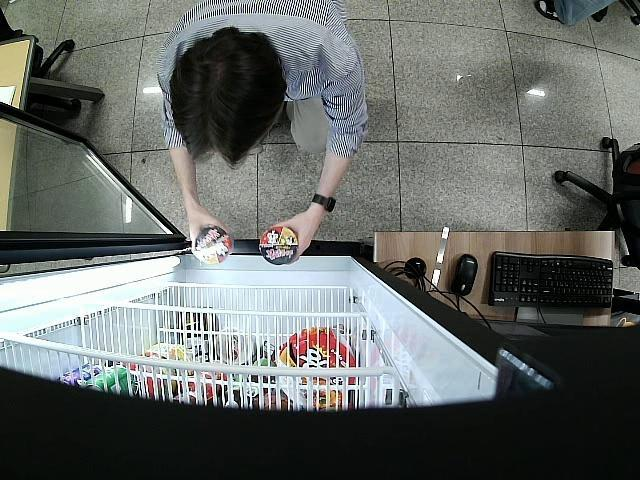08_buldak_S: (196, 227, 234, 264), (260, 227, 298, 264)
